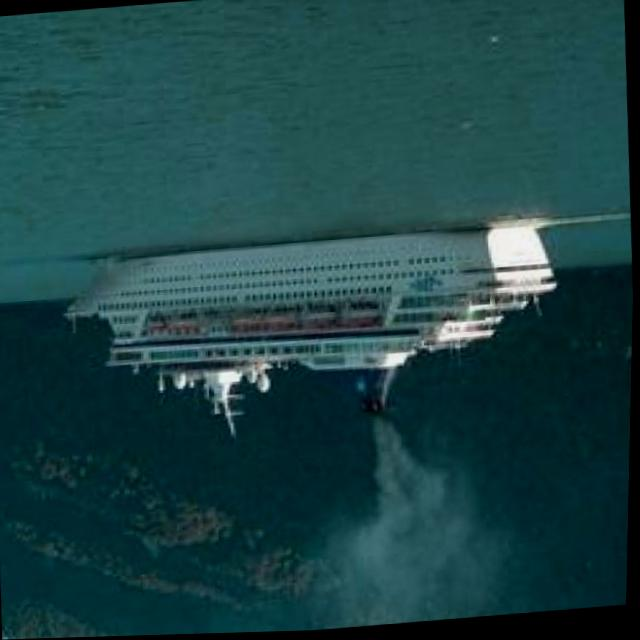ship2: (67, 222, 560, 444)
